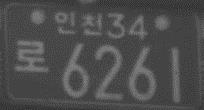1: (164, 47, 189, 101)
2: (95, 43, 125, 100)
3: (107, 12, 125, 39)
4: (129, 14, 148, 40)
6: (127, 47, 157, 101), (63, 43, 89, 98)
로: (15, 39, 48, 74)
인천_O: (54, 10, 103, 37)
